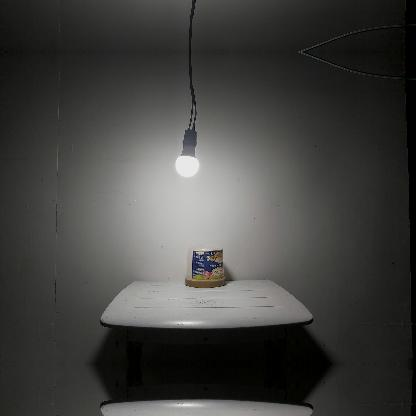Lady-s-Choice: (184, 244, 226, 288)
